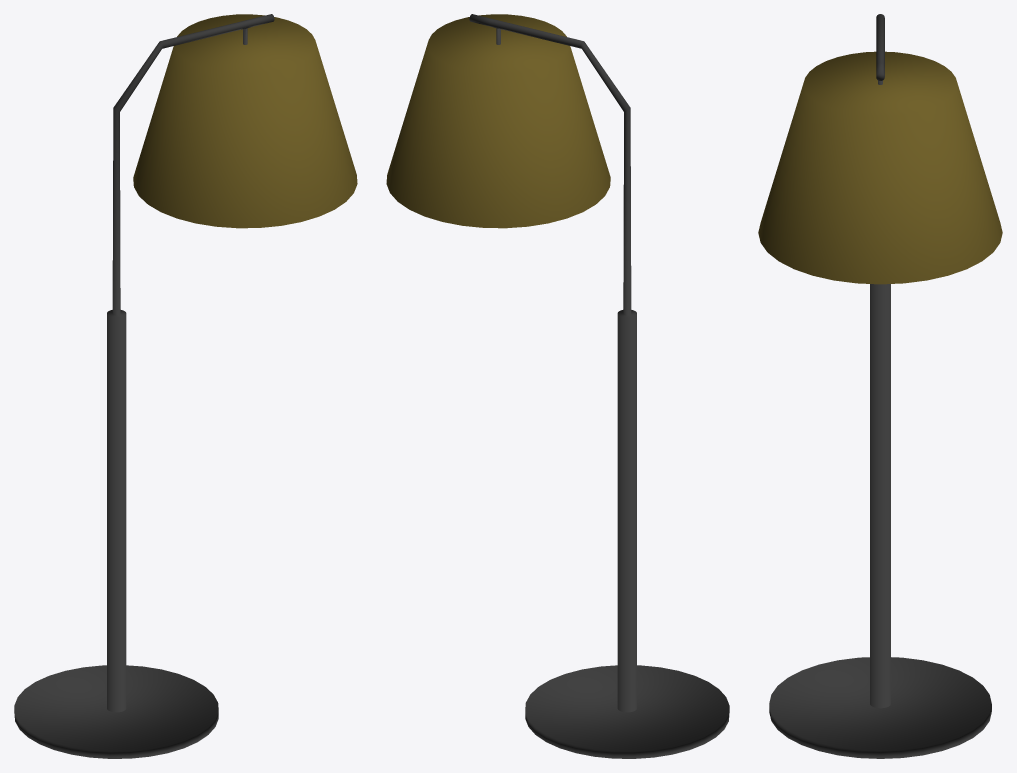
File: Lamp.fbx
3 views of the same model, side by side, from view 1: azimuth 30°, elevation 25°; view 2: azimuth 150°, elevation 25°; view 3: azimuth 270°, elevation 25° (orthographic). The views are drawn at different scales.
Visible parts, largest first — view 1: Lamp_Body; view 2: Lamp_Body; view 3: Lamp_Body.
Boxes of the visible parts, box(x1,y1,x2,y2) form: Lamp_Body: box(14, 14, 357, 758); Lamp_Body: box(386, 14, 729, 758); Lamp_Body: box(758, 14, 1002, 758).
Size of the model in its own units: 97.5 by 196 by 60.31.
